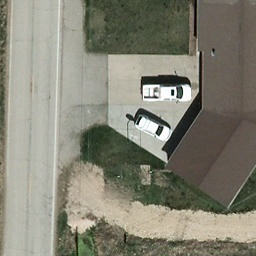car: (132, 111, 174, 142)
pickup: (140, 87, 190, 101)
